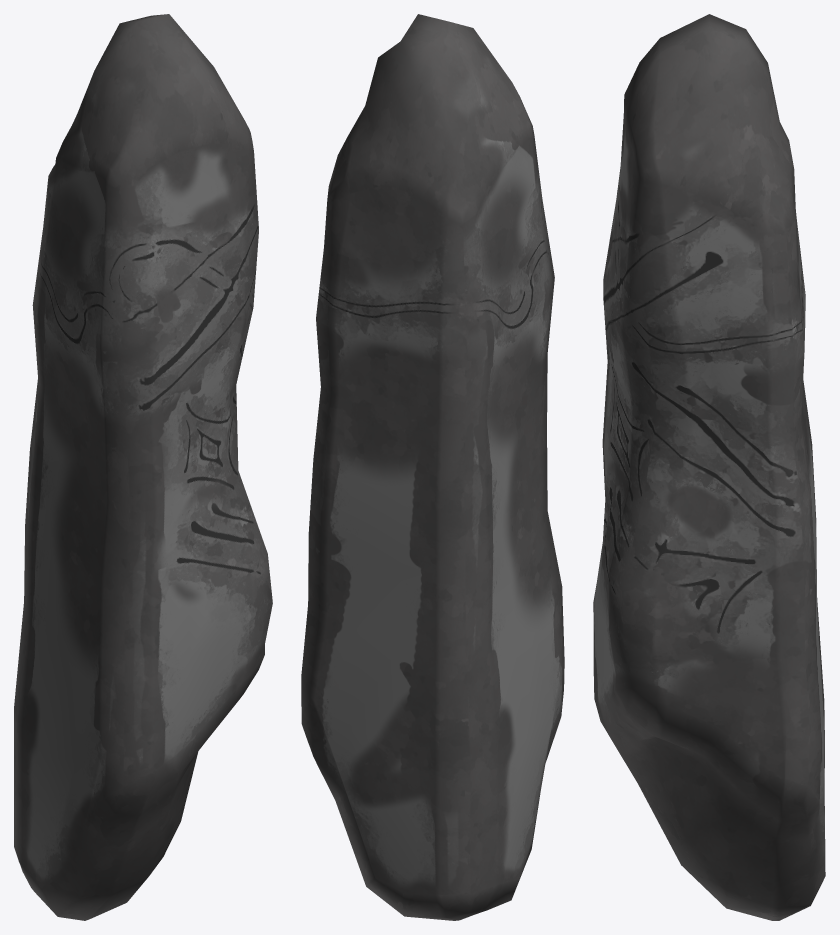
File: Menhir_3_Game.fbx
3 renders of one model, left to right at view 1: azimuth 30°, elevation 25°; view 2: azimuth 150°, elevation 25°; view 3: azimuth 270°, elevation 25°, orthographic. The views are drawn at different scales.
Visible parts, largest first — view 1: pCube6; view 2: pCube6; view 3: pCube6.
Part boxes in pixels (x1=…): pCube6: x1=14, y1=14, x2=272, y2=920; pCube6: x1=301, y1=14, x2=564, y2=920; pCube6: x1=593, y1=14, x2=825, y2=920.
Size of the model in its own units: 3.37 by 15.03 by 3.48.
1 material, 1 textured.
